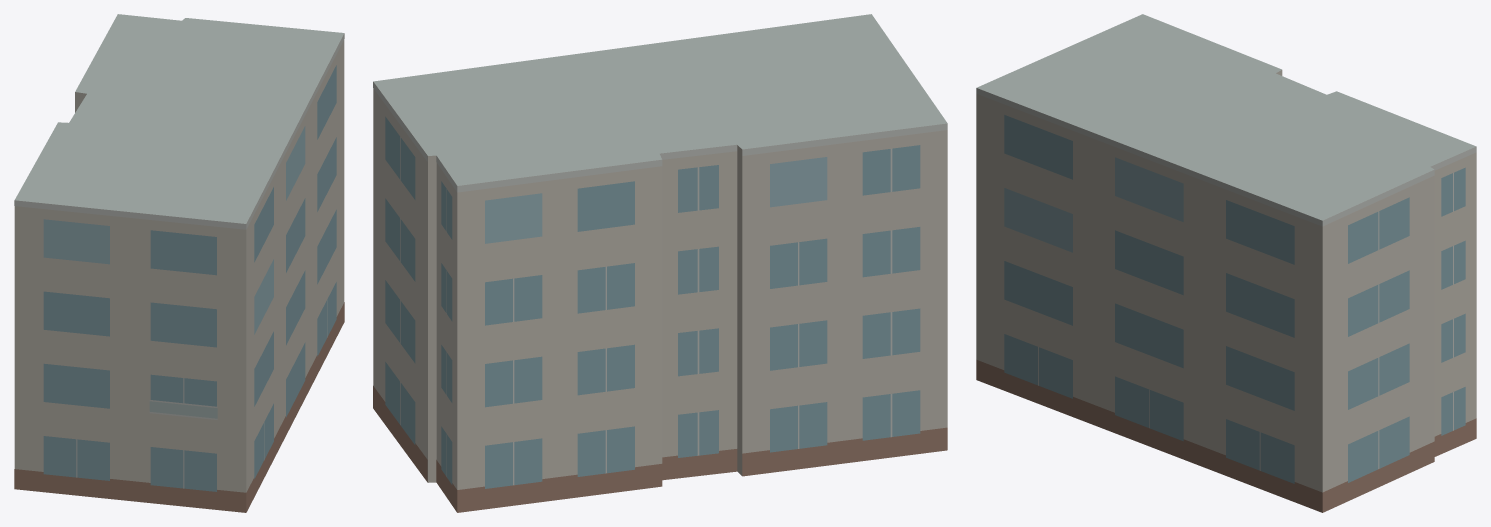
File: survey-upis-32626936.glb
3 views of the same model, side by side, from view 1: azimuth 30°, elevation 25°; view 2: azimuth 150°, elevation 25°; view 3: azimuth 270°, elevation 25° (orthographic). The views are drawn at different scales.
Parts seen in each view (by area): view 1: survey-upis-32626936.tmp; view 2: survey-upis-32626936.tmp; view 3: survey-upis-32626936.tmp.
Boxes of the visible parts, x1,y1,x2,y2 form: survey-upis-32626936.tmp: [14, 14, 344, 512]; survey-upis-32626936.tmp: [373, 14, 947, 512]; survey-upis-32626936.tmp: [976, 14, 1476, 512].
Bounding box in the file's own units: 18.52 × 12.2 × 18.94.
